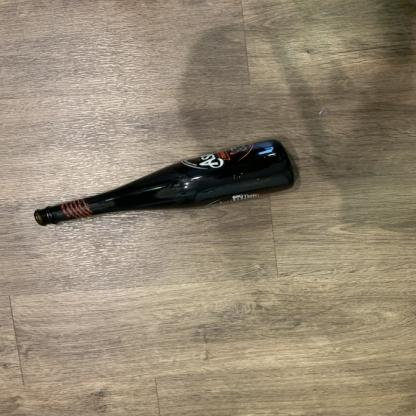trash: (29, 138, 300, 229)
